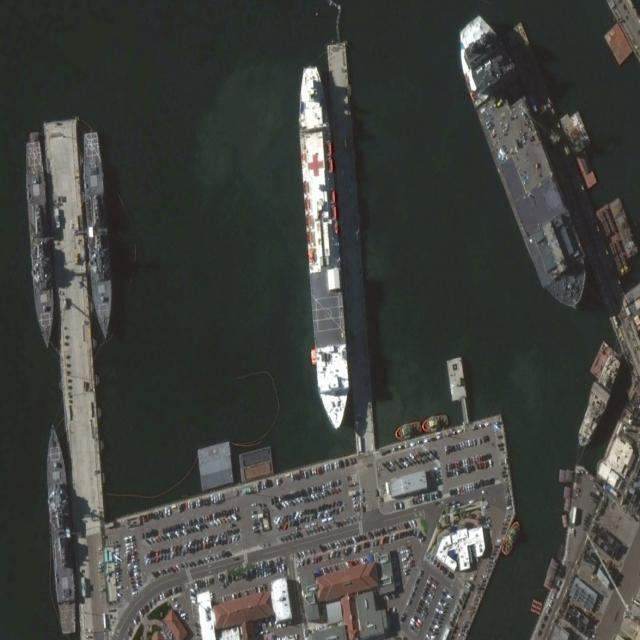Auxiliary Ships: (294, 61, 352, 433)
Destroyer: (79, 128, 116, 341), (42, 422, 79, 635), (22, 137, 58, 352)
Hovercraft: (500, 518, 523, 558), (421, 412, 449, 434), (395, 420, 422, 442)
Other Ship: (571, 353, 625, 454)
Other Warship: (448, 2, 600, 325)
